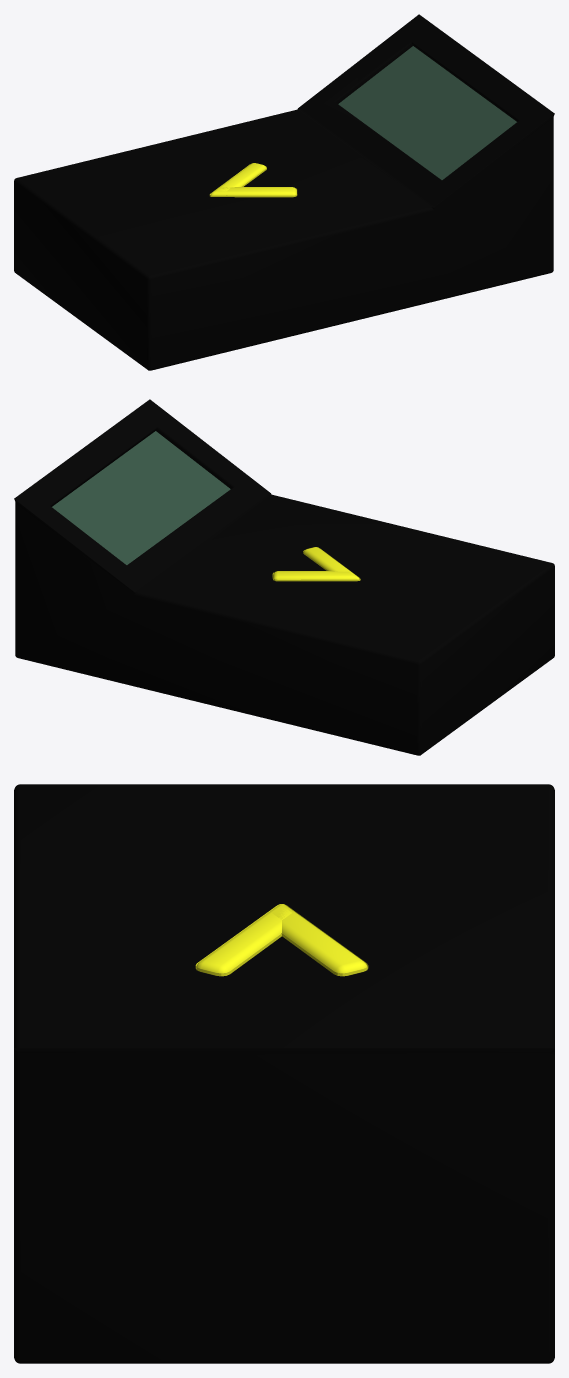
The model's file is voltmeter.fbx.
3 renders of one model, top to bottom at view 1: azimuth 30°, elevation 25°; view 2: azimuth 150°, elevation 25°; view 3: azimuth 270°, elevation 25°, orthographic. The views are drawn at different scales.
Parts seen in each view (by area): view 1: Cube, Cube.001; view 2: Cube, Cube.001; view 3: Cube, Cube.001.
Part boxes in pixels (x1,y1,x2,y2): Cube: (14,14,554,370); Cube.001: (209,163,297,197); Cube: (14,399,554,755); Cube.001: (272,547,360,581); Cube: (14,784,554,1363); Cube.001: (195,904,368,976).
Size of the model in its own units: 123 by 46.04 by 71.08.
